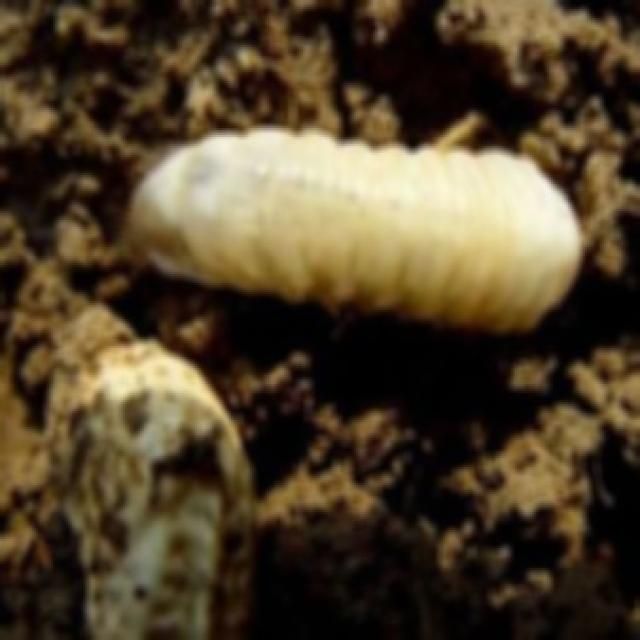grub: (118, 123, 601, 343)
